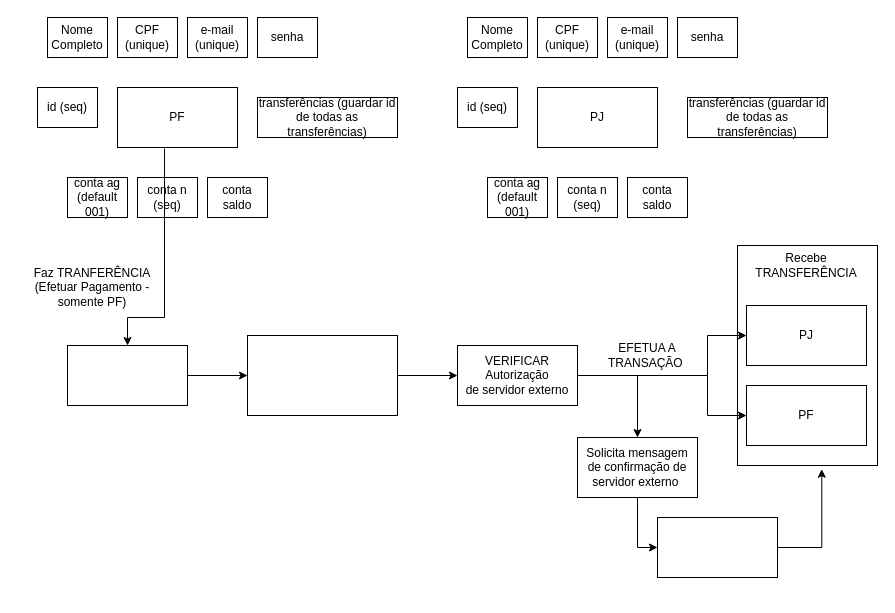
Some shapes in this 895 by 613 pixel diagram are drawn without their labels. The centre of each missing label's shape, as x and y in pixels:
"Envia notificação assíncrona de recebimento de transferência" goes at (x=717, y=547).
"transferência" goes at (x=127, y=375).
"VERIFICAR SE ATENDE AS CONDIÇÕES: 1. ser PF 2. ter saldo suficiente" goes at (x=322, y=375).
